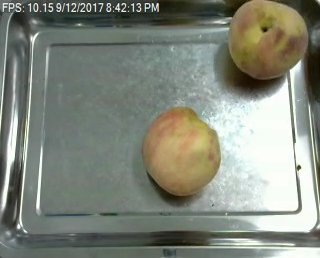Peach: (141, 105, 222, 196), (227, 0, 309, 79)
